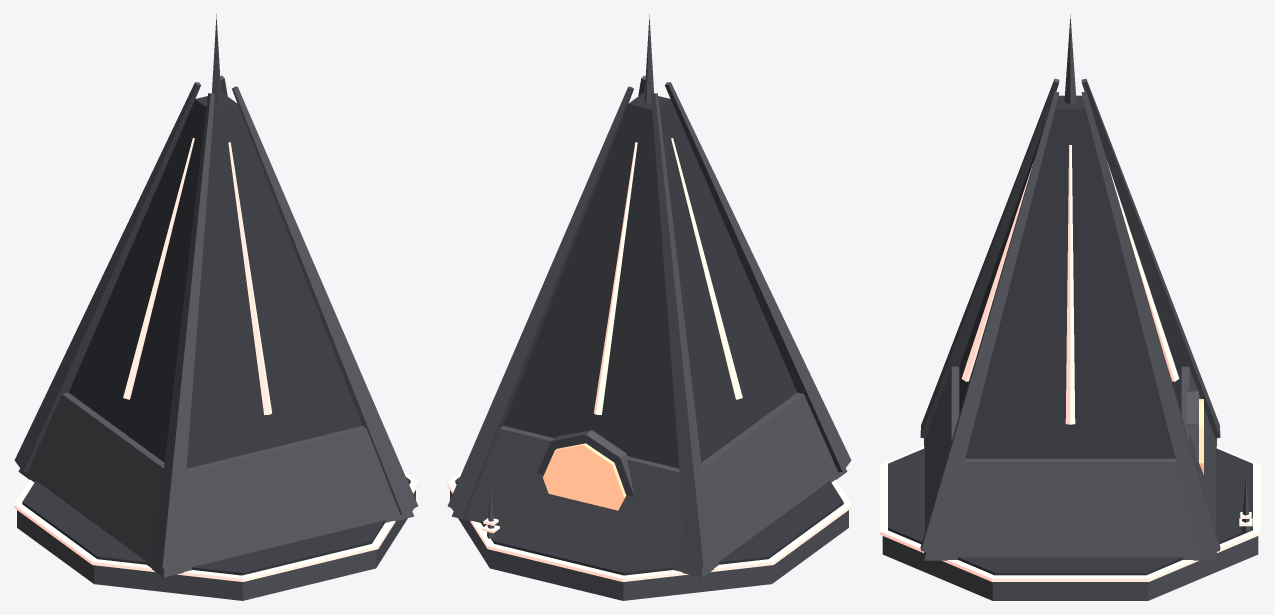
File: zone_high_3_t2.glb
The picture shows the model from 3 angles, left to right: view 1: azimuth 30°, elevation 25°; view 2: azimuth 150°, elevation 25°; view 3: azimuth 270°, elevation 25°; orthographic projection.
Parts seen in each view (by area): view 1: zone_high_3_t2; view 2: zone_high_3_t2; view 3: zone_high_3_t2.
Part boxes in pixels (bbox=[...]): zone_high_3_t2: bbox=[14, 14, 418, 600]; zone_high_3_t2: bbox=[447, 14, 851, 600]; zone_high_3_t2: bbox=[880, 14, 1260, 600].
Size of the model in its own units: 27.35 by 40.23 by 27.35.
